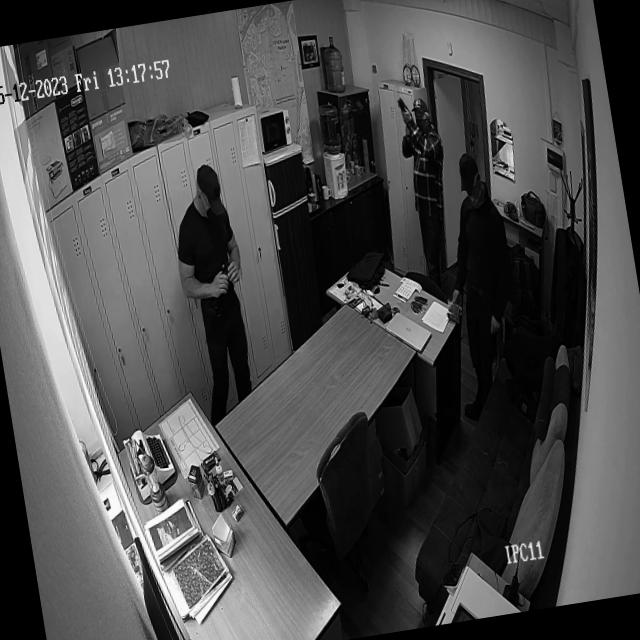gun: (396, 95, 414, 120)
person: (424, 146, 536, 427), (162, 158, 268, 431)
person with a gun: (392, 90, 467, 292)
